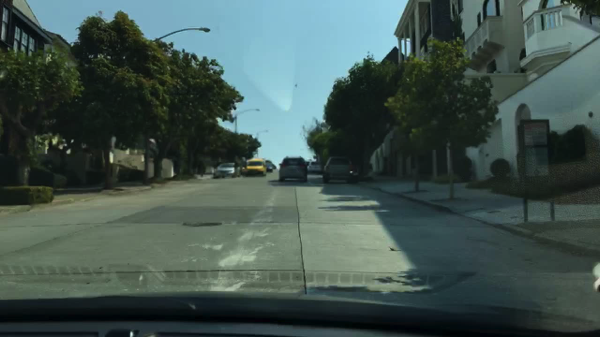car: (323, 156, 358, 184), (277, 156, 308, 182), (212, 161, 236, 179), (245, 157, 266, 176), (307, 161, 323, 173), (266, 161, 274, 173)
person: (239, 156, 247, 176), (234, 157, 241, 178), (197, 162, 205, 177)
